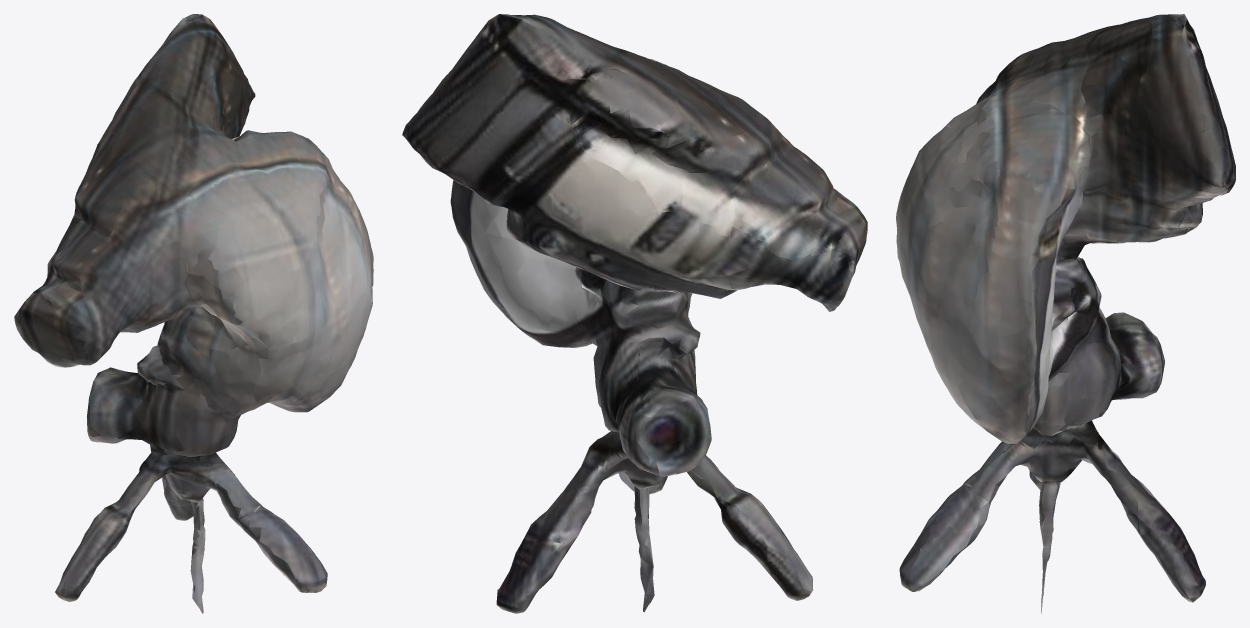
Rendered from 14_23_30_20_a-single-hasselblad-camera.glb.
3 views of the same model, side by side, from view 1: azimuth 30°, elevation 25°; view 2: azimuth 150°, elevation 25°; view 3: azimuth 270°, elevation 25° (orthographic). The views are drawn at different scales.
Parts seen in each view (by area): view 1: world; view 2: world; view 3: world.
Boxes of the visible parts, x1=… form: world: x1=14, y1=14, x2=373, y2=613; world: x1=402, y1=14, x2=867, y2=613; world: x1=896, y1=14, x2=1235, y2=613.
Size of the model in its own units: 0.5739 by 0.8476 by 0.4175.
1 material, 1 textured.
